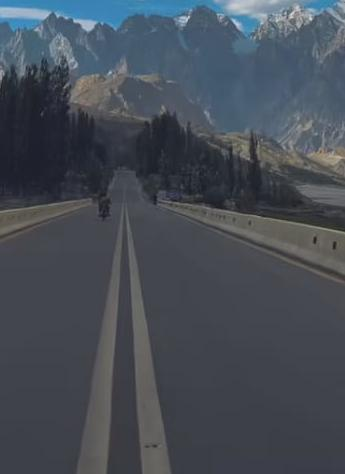sharp_turn: (45, 160, 208, 474)
